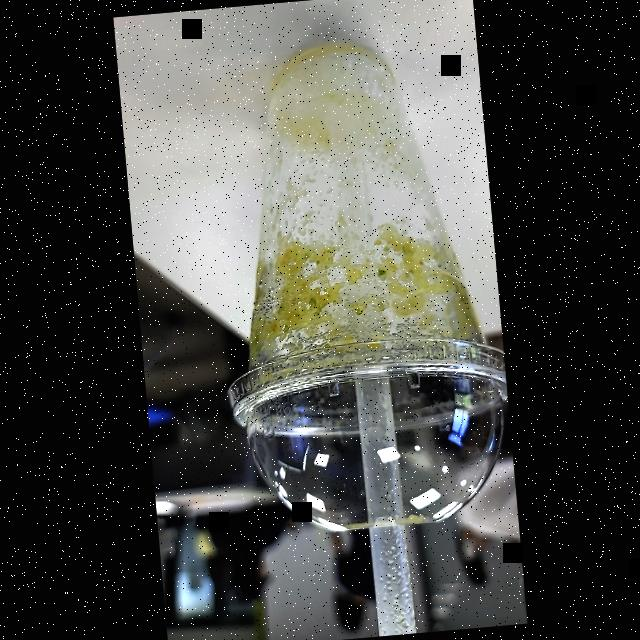plastic_cup: (194, 23, 518, 546)
straw: (312, 85, 416, 636)
